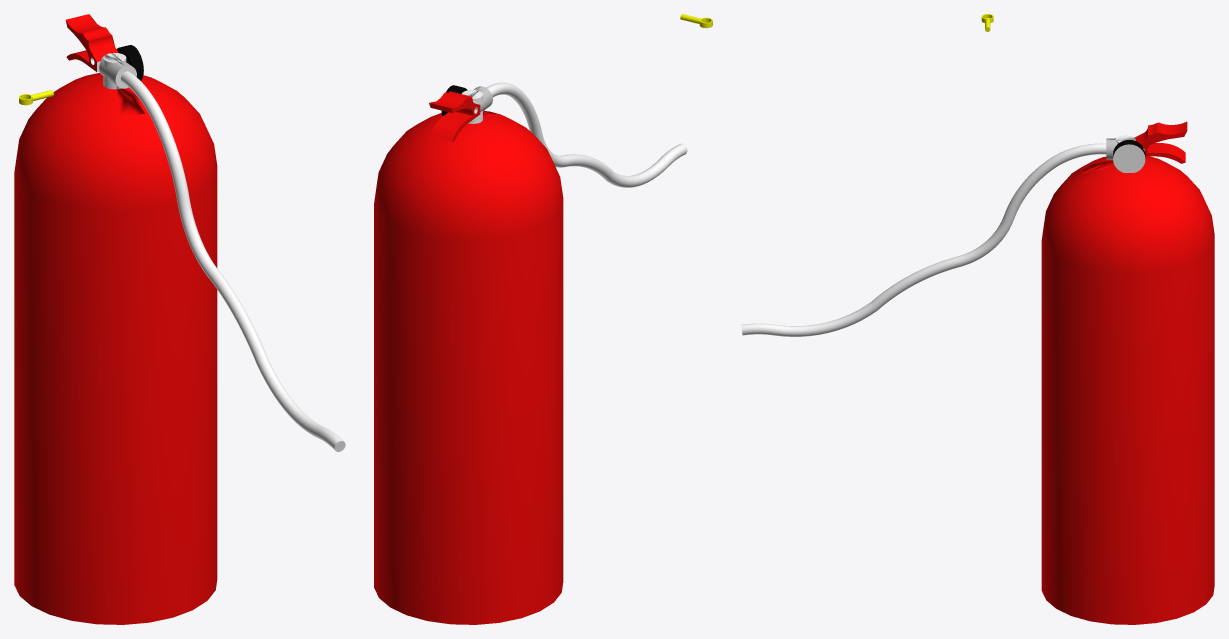
The model's file is Extintor.fbx.
The picture shows the model from 3 angles, left to right: view 1: azimuth 30°, elevation 25°; view 2: azimuth 150°, elevation 25°; view 3: azimuth 270°, elevation 25°; orthographic projection. The views are drawn at different scales.
Parts seen in each view (by area): view 1: Model; view 2: Model; view 3: Model.
Part boxes in pixels (x1,y1,x2,y2): Model: (14,14,345,624); Model: (374,14,712,624); Model: (741,14,1214,624).
Bounding box in the file's own units: 0.4838 × 1.02 × 0.8738.
